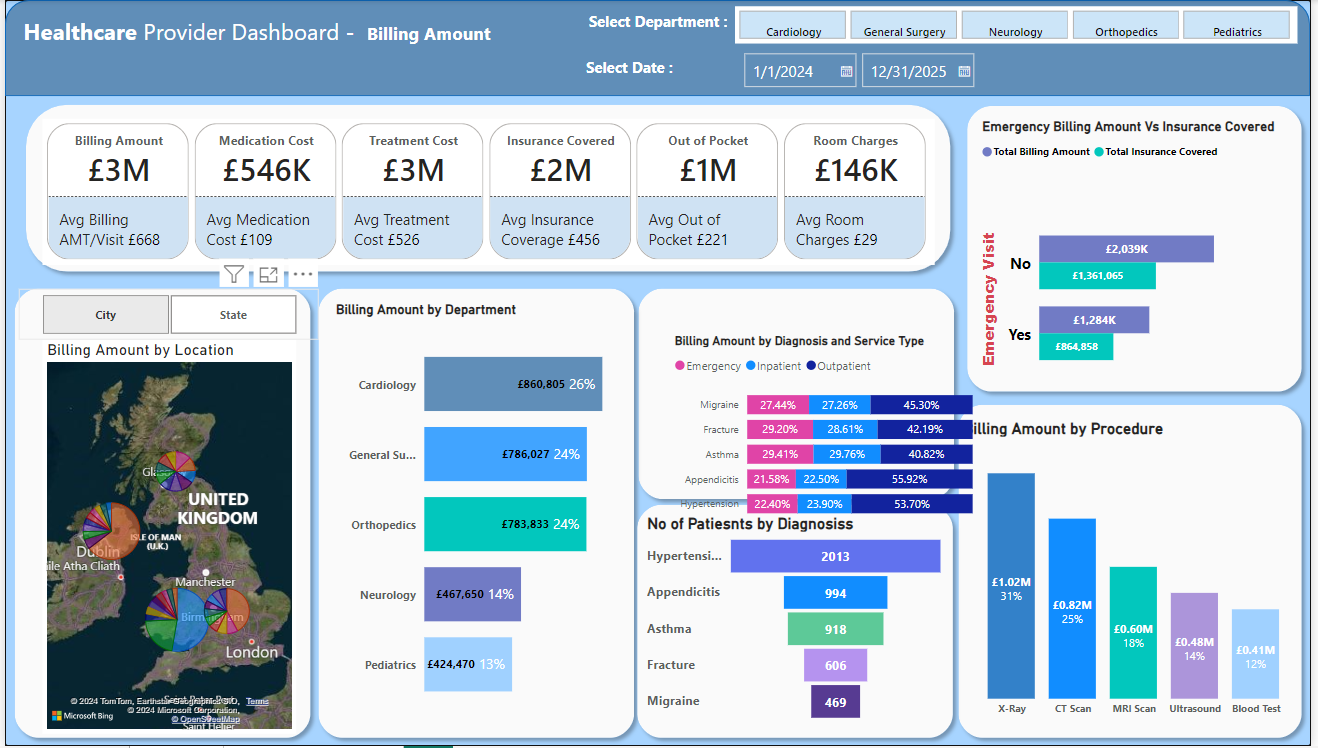

What the dashboard file says about the page in this screenshot:
{"tool":"powerbi","page":{"name":"Page 1","canvas":[1400,800],"ordinal":0},"visuals":[{"type":"shape","box":[670.2,300.3,356.6,244],"z":0},{"type":"shape","box":[1022.8,104.6,376.7,324.4],"z":1000},{"type":"shape","box":[0,0,1399.5,103.2],"z":2000},{"type":"shape","box":[327.1,300.3,356.6,500],"z":3000},{"type":"shape","box":[13.4,103.2,1009.4,197.1],"z":4000},{"type":"cardVisual","fields":{"Data":["DAX Calculations.Total Billing Amount","DAX Calculations.Total Medication Cost","DAX Calculations.Total Treatment Cost","DAX Calculations.Total Insurance Covered","DAX Calculations.Out of Pocket","DAX Calculations.Total Room Charges"]},"box":[40.2,127.3,957.1,156.8],"z":5000},{"type":"shape","box":[1.3,300.3,335.1,500],"z":6000},{"type":"advancedSlicerVisual","fields":{"Values":["departments.Department"]},"box":[782.8,6.7,603.2,40.2],"z":7000},{"type":"map","title":"Billing Amount by Location","fields":{"Category":["cities.State"],"Size":["DAX Calculations.Total Billing Amount"],"Series":["cities.City"]},"box":[40.2,364.6,272.1,422.3],"z":8000},{"type":"slicer","fields":{"Values":["Location .Location "]},"box":[14.7,309.7,321.7,55],"z":9000},{"type":"clusteredBarChart","title":"Billing Amount by Department","fields":{"Category":["departments.Department"],"Y":["DAX Calculations.Total Billing Amount"]},"box":[349.9,323.1,349.9,455.8],"z":10000},{"type":"clusteredBarChart","title":"Emergency Billing Amount Vs Insurance Covered","fields":{"Category":["visits.Emergency Visit"],"Y":["DAX Calculations.Total Billing Amount","DAX Calculations.Total Insurance Covered"]},"box":[1042.9,127.3,332.4,335.1],"z":11000},{"type":"shape","box":[1013.4,424.9,386.1,375.3],"z":12000},{"type":"columnChart","title":"Billing Amount by Procedure","fields":{"Y":["DAX Calculations.Total Billing Amount"],"Category":["procedures.Procedure"]},"box":[1022.8,449.1,376.7,328.4],"z":13000},{"type":"shape","box":[668.9,532.2,356.6,268.1],"z":14000},{"type":"funnel","title":"No of Patiesnts by Diagnosiss","fields":{"Category":["diagnoses.Diagnosis"],"Y":["DAX Calculations.No Of Patients"]},"box":[683.6,550.9,329.8,227.9],"z":15000},{"type":"textbox","box":[604.6,6.7,191.7,37.5],"z":16000},{"type":"hundredPercentStackedBarChart","title":"Billing Amount by Diagnosis and Service Type","fields":{"Y":["DAX Calculations.Total Billing Amount"],"Category":["diagnoses.Diagnosis"],"Series":["visits.Service Type"]},"box":[713.1,357.9,329.8,209.1],"z":17000},{"type":"textbox","box":[14.7,12.1,577.8,44.2],"z":18000},{"type":"textbox","box":[573.7,56.3,191.7,37.5],"z":19000},{"type":"slicer","fields":{"Values":["DateTable.Date"]},"box":[780.2,46.9,304.3,46.9],"z":20000}]}

Visuals, with their boxes in screenshot pixels (x1, y1, x2, y2), scaled from the page's 1400x800 canvas onto the 1318x748 screenshot:
shape: [x1=631, y1=281, x2=967, y2=509]
shape: [x1=963, y1=98, x2=1317, y2=401]
shape: [x1=0, y1=0, x2=1317, y2=96]
shape: [x1=308, y1=281, x2=644, y2=747]
shape: [x1=13, y1=96, x2=963, y2=281]
cardVisual - DAX Calculations.Total Billing Amount x DAX Calculations.Total Medication Cost: [x1=38, y1=119, x2=939, y2=266]
shape: [x1=1, y1=281, x2=317, y2=747]
advancedSlicerVisual - departments.Department: [x1=737, y1=6, x2=1305, y2=44]
"Billing Amount by Location" map: [x1=38, y1=341, x2=294, y2=736]
slicer - Location .Location : [x1=14, y1=290, x2=317, y2=341]
"Billing Amount by Department" clusteredBarChart: [x1=329, y1=302, x2=659, y2=728]
"Emergency Billing Amount Vs Insurance Covered" clusteredBarChart: [x1=982, y1=119, x2=1295, y2=432]
shape: [x1=954, y1=397, x2=1317, y2=747]
"Billing Amount by Procedure" columnChart: [x1=963, y1=420, x2=1317, y2=727]
shape: [x1=630, y1=498, x2=965, y2=747]
"No of Patiesnts by Diagnosiss" funnel: [x1=644, y1=515, x2=954, y2=728]
textbox: [x1=569, y1=6, x2=750, y2=41]
"Billing Amount by Diagnosis and Service Type" hundredPercentStackedBarChart: [x1=671, y1=335, x2=982, y2=530]
textbox: [x1=14, y1=11, x2=558, y2=53]
textbox: [x1=540, y1=53, x2=721, y2=88]
slicer - DateTable.Date: [x1=735, y1=44, x2=1021, y2=88]
